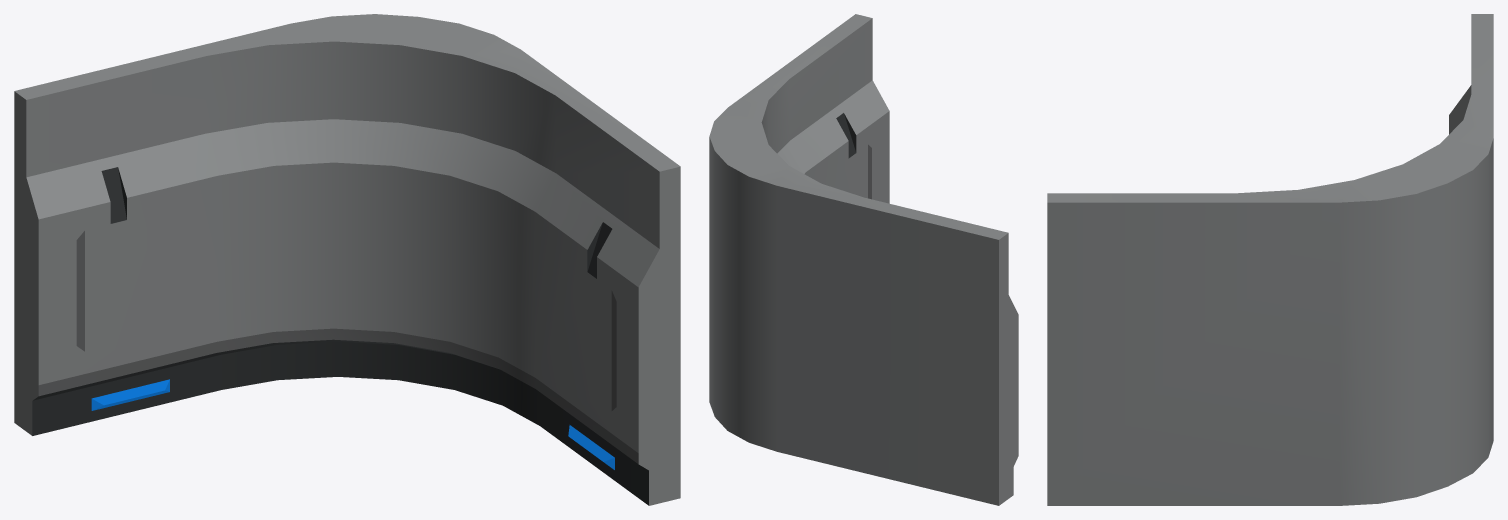
File: Wall_type_B_043.glb
3 views of the same model, side by side, from view 1: azimuth 30°, elevation 25°; view 2: azimuth 150°, elevation 25°; view 3: azimuth 270°, elevation 25° (orthographic). The views are drawn at different scales.
Parts seen in each view (by area): view 1: Wall_type_B_043; view 2: Wall_type_B_043; view 3: Wall_type_B_043.
Boxes of the visible parts, box(x1,y1,x2,y2) form: Wall_type_B_043: box(14, 14, 680, 505); Wall_type_B_043: box(709, 14, 1018, 505); Wall_type_B_043: box(1047, 14, 1493, 505).
Bounding box in the file's own units: 2 × 1.5 × 2.
Materials: 2 (2 with a texture image).
